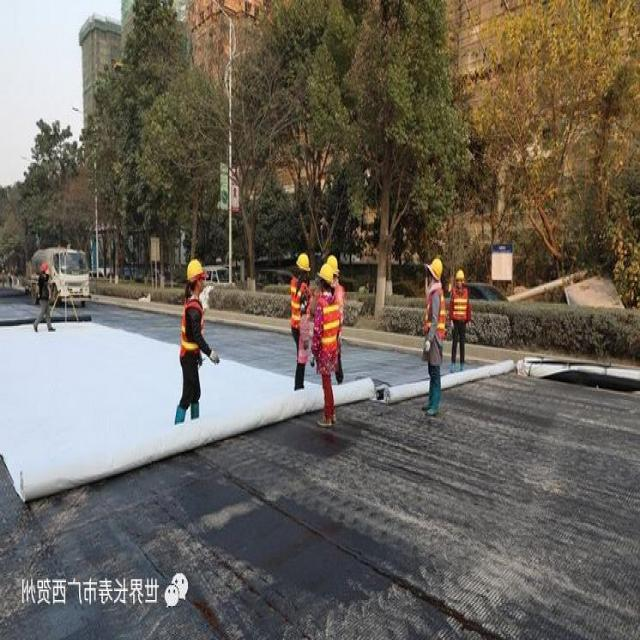Reflective-Jacket: (313, 284, 346, 362), (175, 293, 208, 366), (422, 282, 449, 340), (287, 274, 309, 332), (451, 284, 472, 323)
Safety-Helmet: (316, 252, 342, 286), (184, 253, 208, 286), (426, 253, 446, 283), (294, 249, 312, 274), (454, 265, 467, 283)
